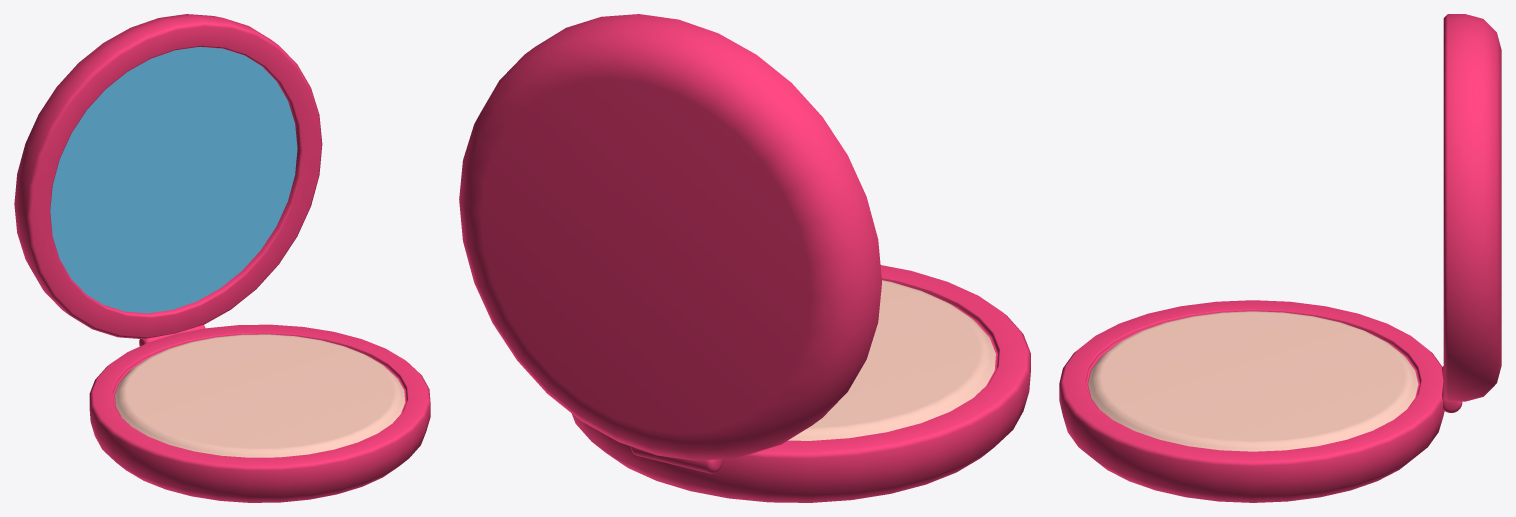
Rendered from Store_17_Face_Powder_1.glb.
3 renders of one model, left to right at view 1: azimuth 30°, elevation 25°; view 2: azimuth 150°, elevation 25°; view 3: azimuth 270°, elevation 25°, orthographic. The views are drawn at different scales.
Visible parts, largest first — view 1: Store_17_Face_Powder_1; view 2: Store_17_Face_Powder_1; view 3: Store_17_Face_Powder_1.
Part boxes in pixels (<box>): Store_17_Face_Powder_1: <box>14,14,430,502</box>; Store_17_Face_Powder_1: <box>459,14,1030,502</box>; Store_17_Face_Powder_1: <box>1059,14,1501,502</box>.
Bounding box in the file's own units: 0.841 × 0.9592 × 0.9592.
1 material, 1 textured.
